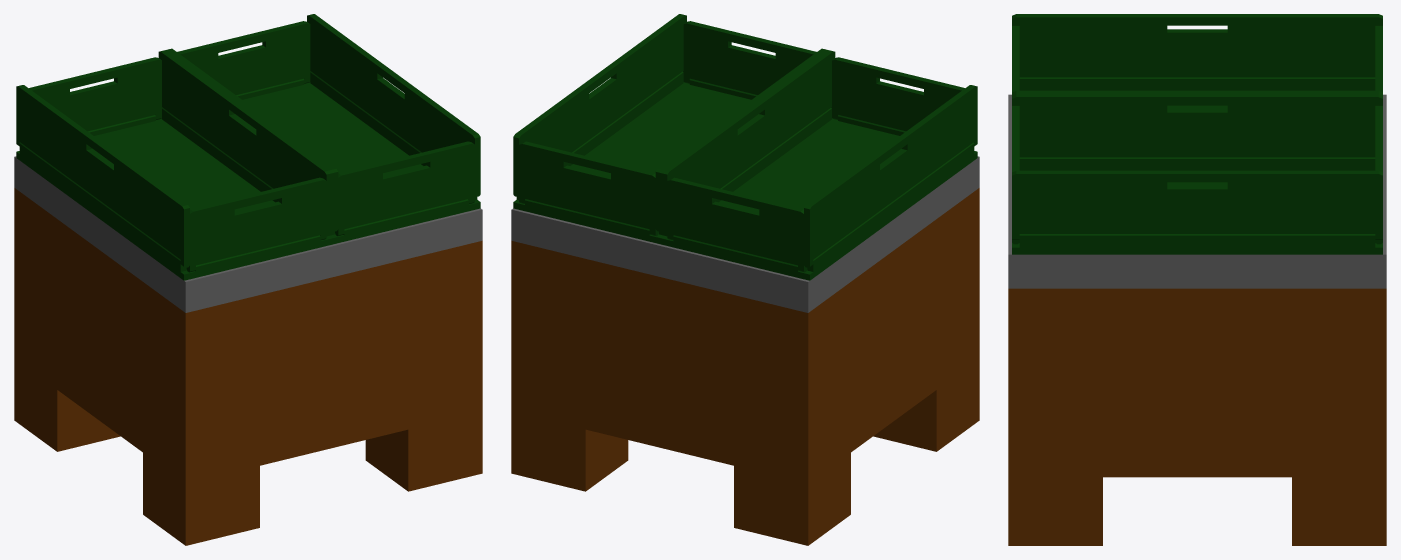
Rendered from VegBox LPM (1x1).fbx.
3 renders of one model, left to right at view 1: azimuth 30°, elevation 25°; view 2: azimuth 150°, elevation 25°; view 3: azimuth 270°, elevation 25°, orthographic. The views are drawn at different scales.
Visible parts, largest first — view 1: VegBox, FSV_2, FSV_1; view 2: VegBox, FSV_2, FSV_1; view 3: VegBox, FSV_1, FSV_2.
Boxes of the visible parts, bbox=[...] form: VegBox: bbox=[14, 156, 482, 545]; FSV_2: bbox=[16, 50, 332, 280]; FSV_1: bbox=[165, 14, 480, 244]; VegBox: bbox=[511, 156, 979, 545]; FSV_2: bbox=[661, 50, 977, 280]; FSV_1: bbox=[513, 14, 828, 244]; VegBox: bbox=[1008, 94, 1386, 545]; FSV_1: bbox=[1012, 94, 1382, 254]; FSV_2: bbox=[1012, 14, 1382, 109].
Bounding box in the file's own units: 100 × 108 × 100.
